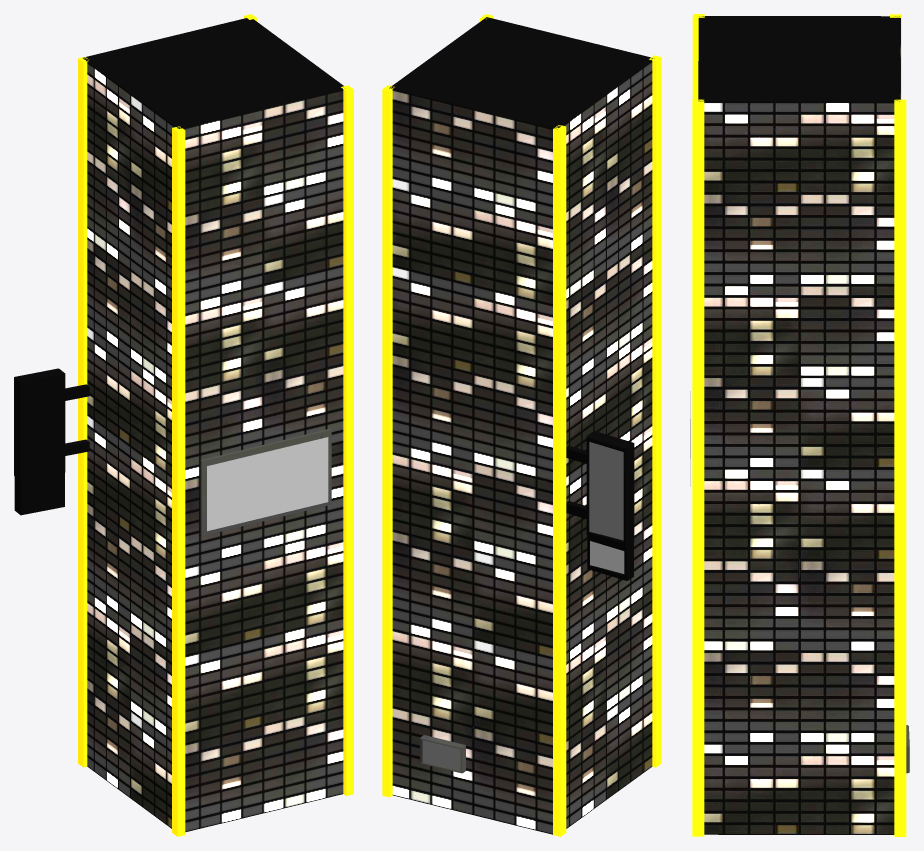
The model's file is BLD1310002.fbx.
3 views of the same model, side by side, from view 1: azimuth 30°, elevation 25°; view 2: azimuth 150°, elevation 25°; view 3: azimuth 270°, elevation 25° (orthographic). The views are drawn at different scales.
Parts seen in each view (by area): view 1: smBLD1310002; view 2: smBLD1310002; view 3: smBLD1310002.
Boxes of the visible parts, <box> form: smBLD1310002: <box>14,14,353,836</box>; smBLD1310002: <box>382,14,661,836</box>; smBLD1310002: <box>690,14,909,836</box>.
Bounding box in the file's own units: 559 × 1561 × 424.
5 materials, 1 textured.
